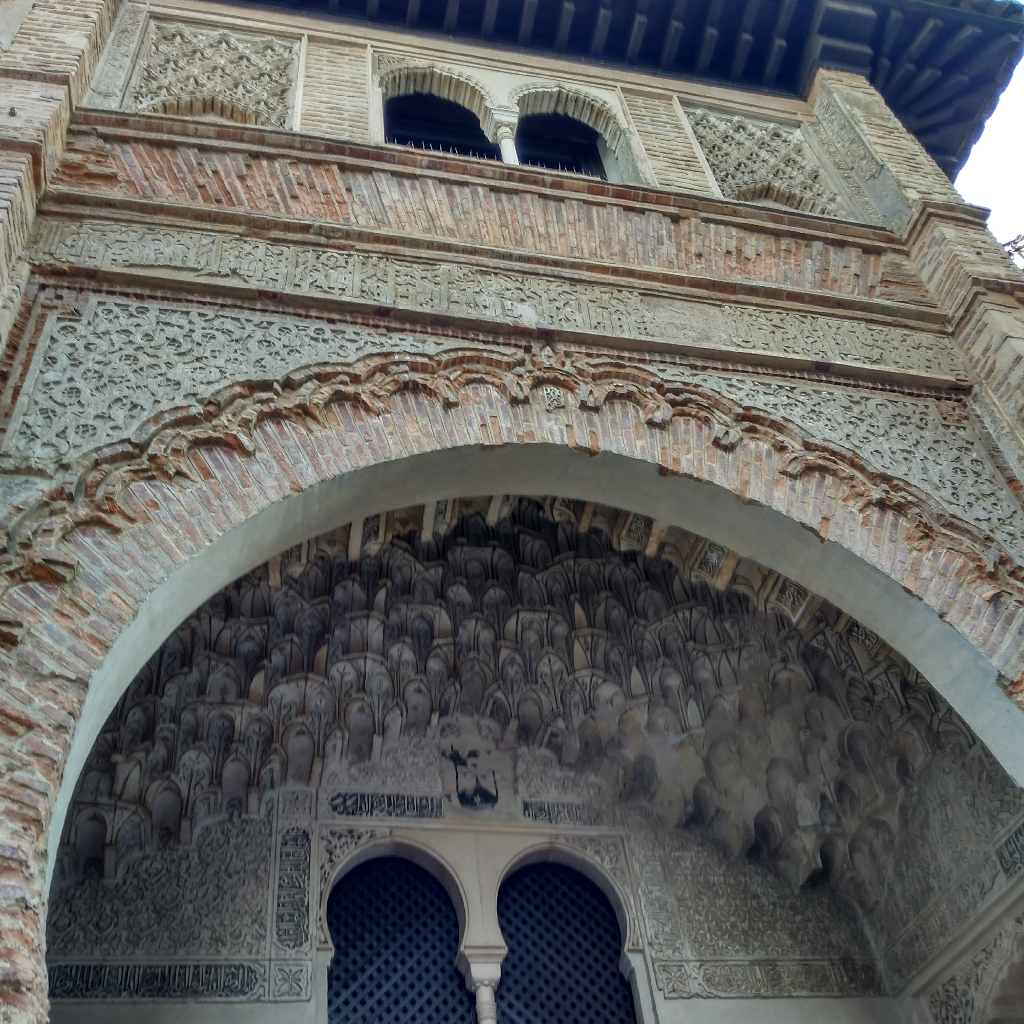arco-herradura: (312, 827, 488, 981), (489, 829, 643, 982)
